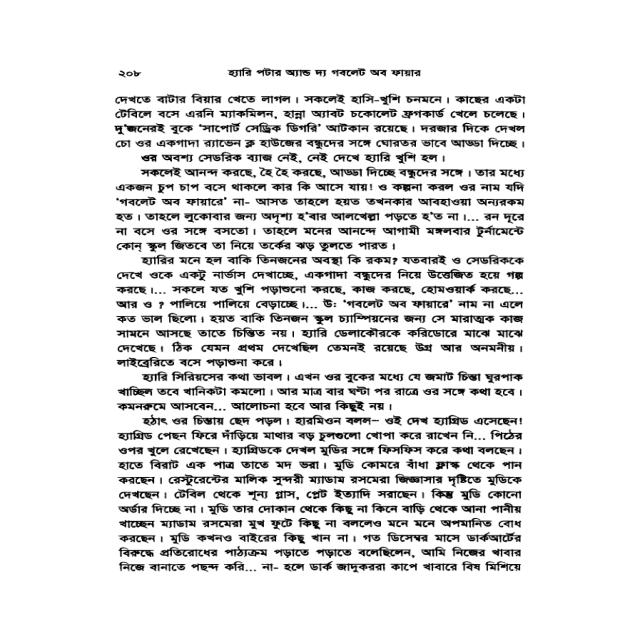page number: (114, 67, 145, 80)
paragraph: (113, 413, 526, 577), (113, 252, 528, 370), (114, 166, 529, 253), (112, 91, 530, 156), (120, 370, 520, 414), (133, 151, 435, 164)
title: (218, 63, 428, 80)
